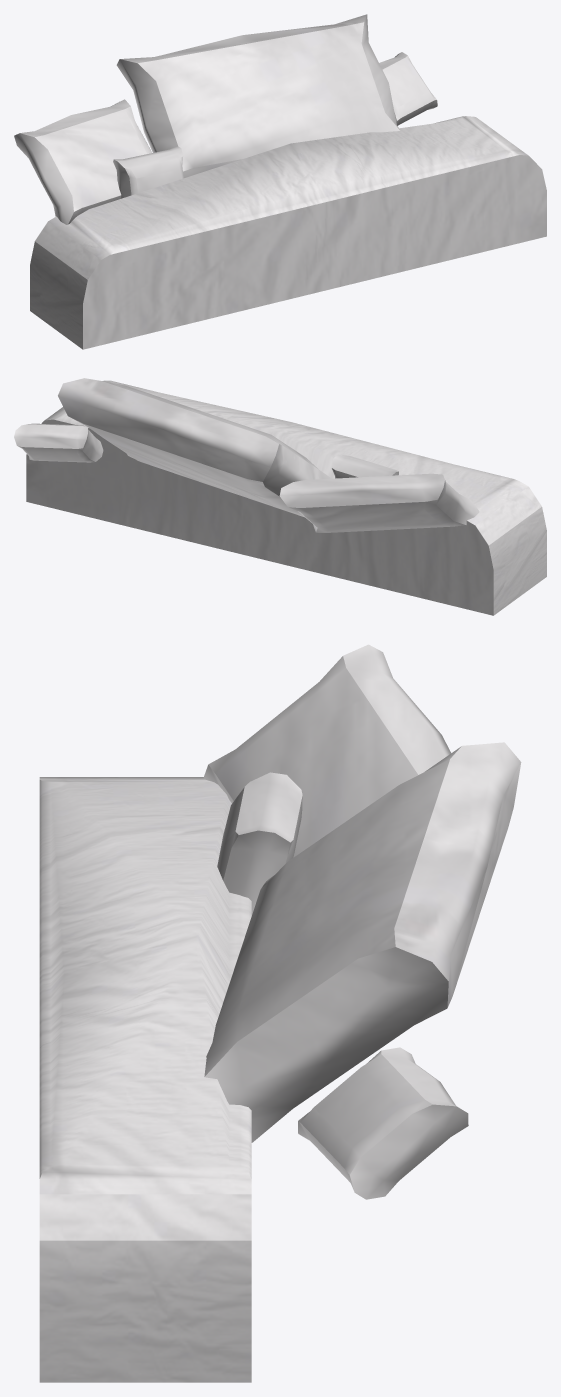
The model's file is pillows.obj.
3 renders of one model, top to bottom at view 1: azimuth 30°, elevation 25°; view 2: azimuth 150°, elevation 25°; view 3: azimuth 270°, elevation 25°, orthographic. The views are drawn at different scales.
Visible parts, largest first — view 1: polySurface89; view 2: polySurface89; view 3: polySurface89.
Part boxes in pixels (x1,y1,x2,y2): polySurface89: (14, 14, 546, 349); polySurface89: (14, 378, 546, 615); polySurface89: (39, 644, 521, 1382).
Bounding box in the file's own units: 5.23 × 1.86 × 2.35.
Materials: 1 (1 with a texture image).
